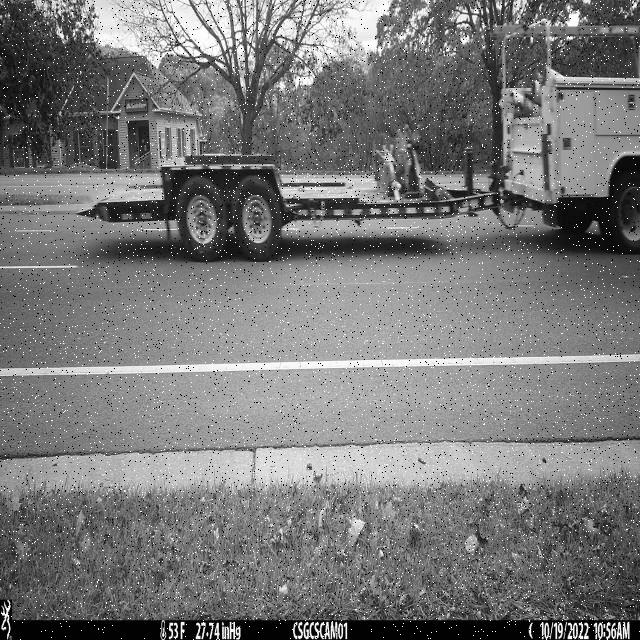Trailer: (75, 147, 501, 262)
